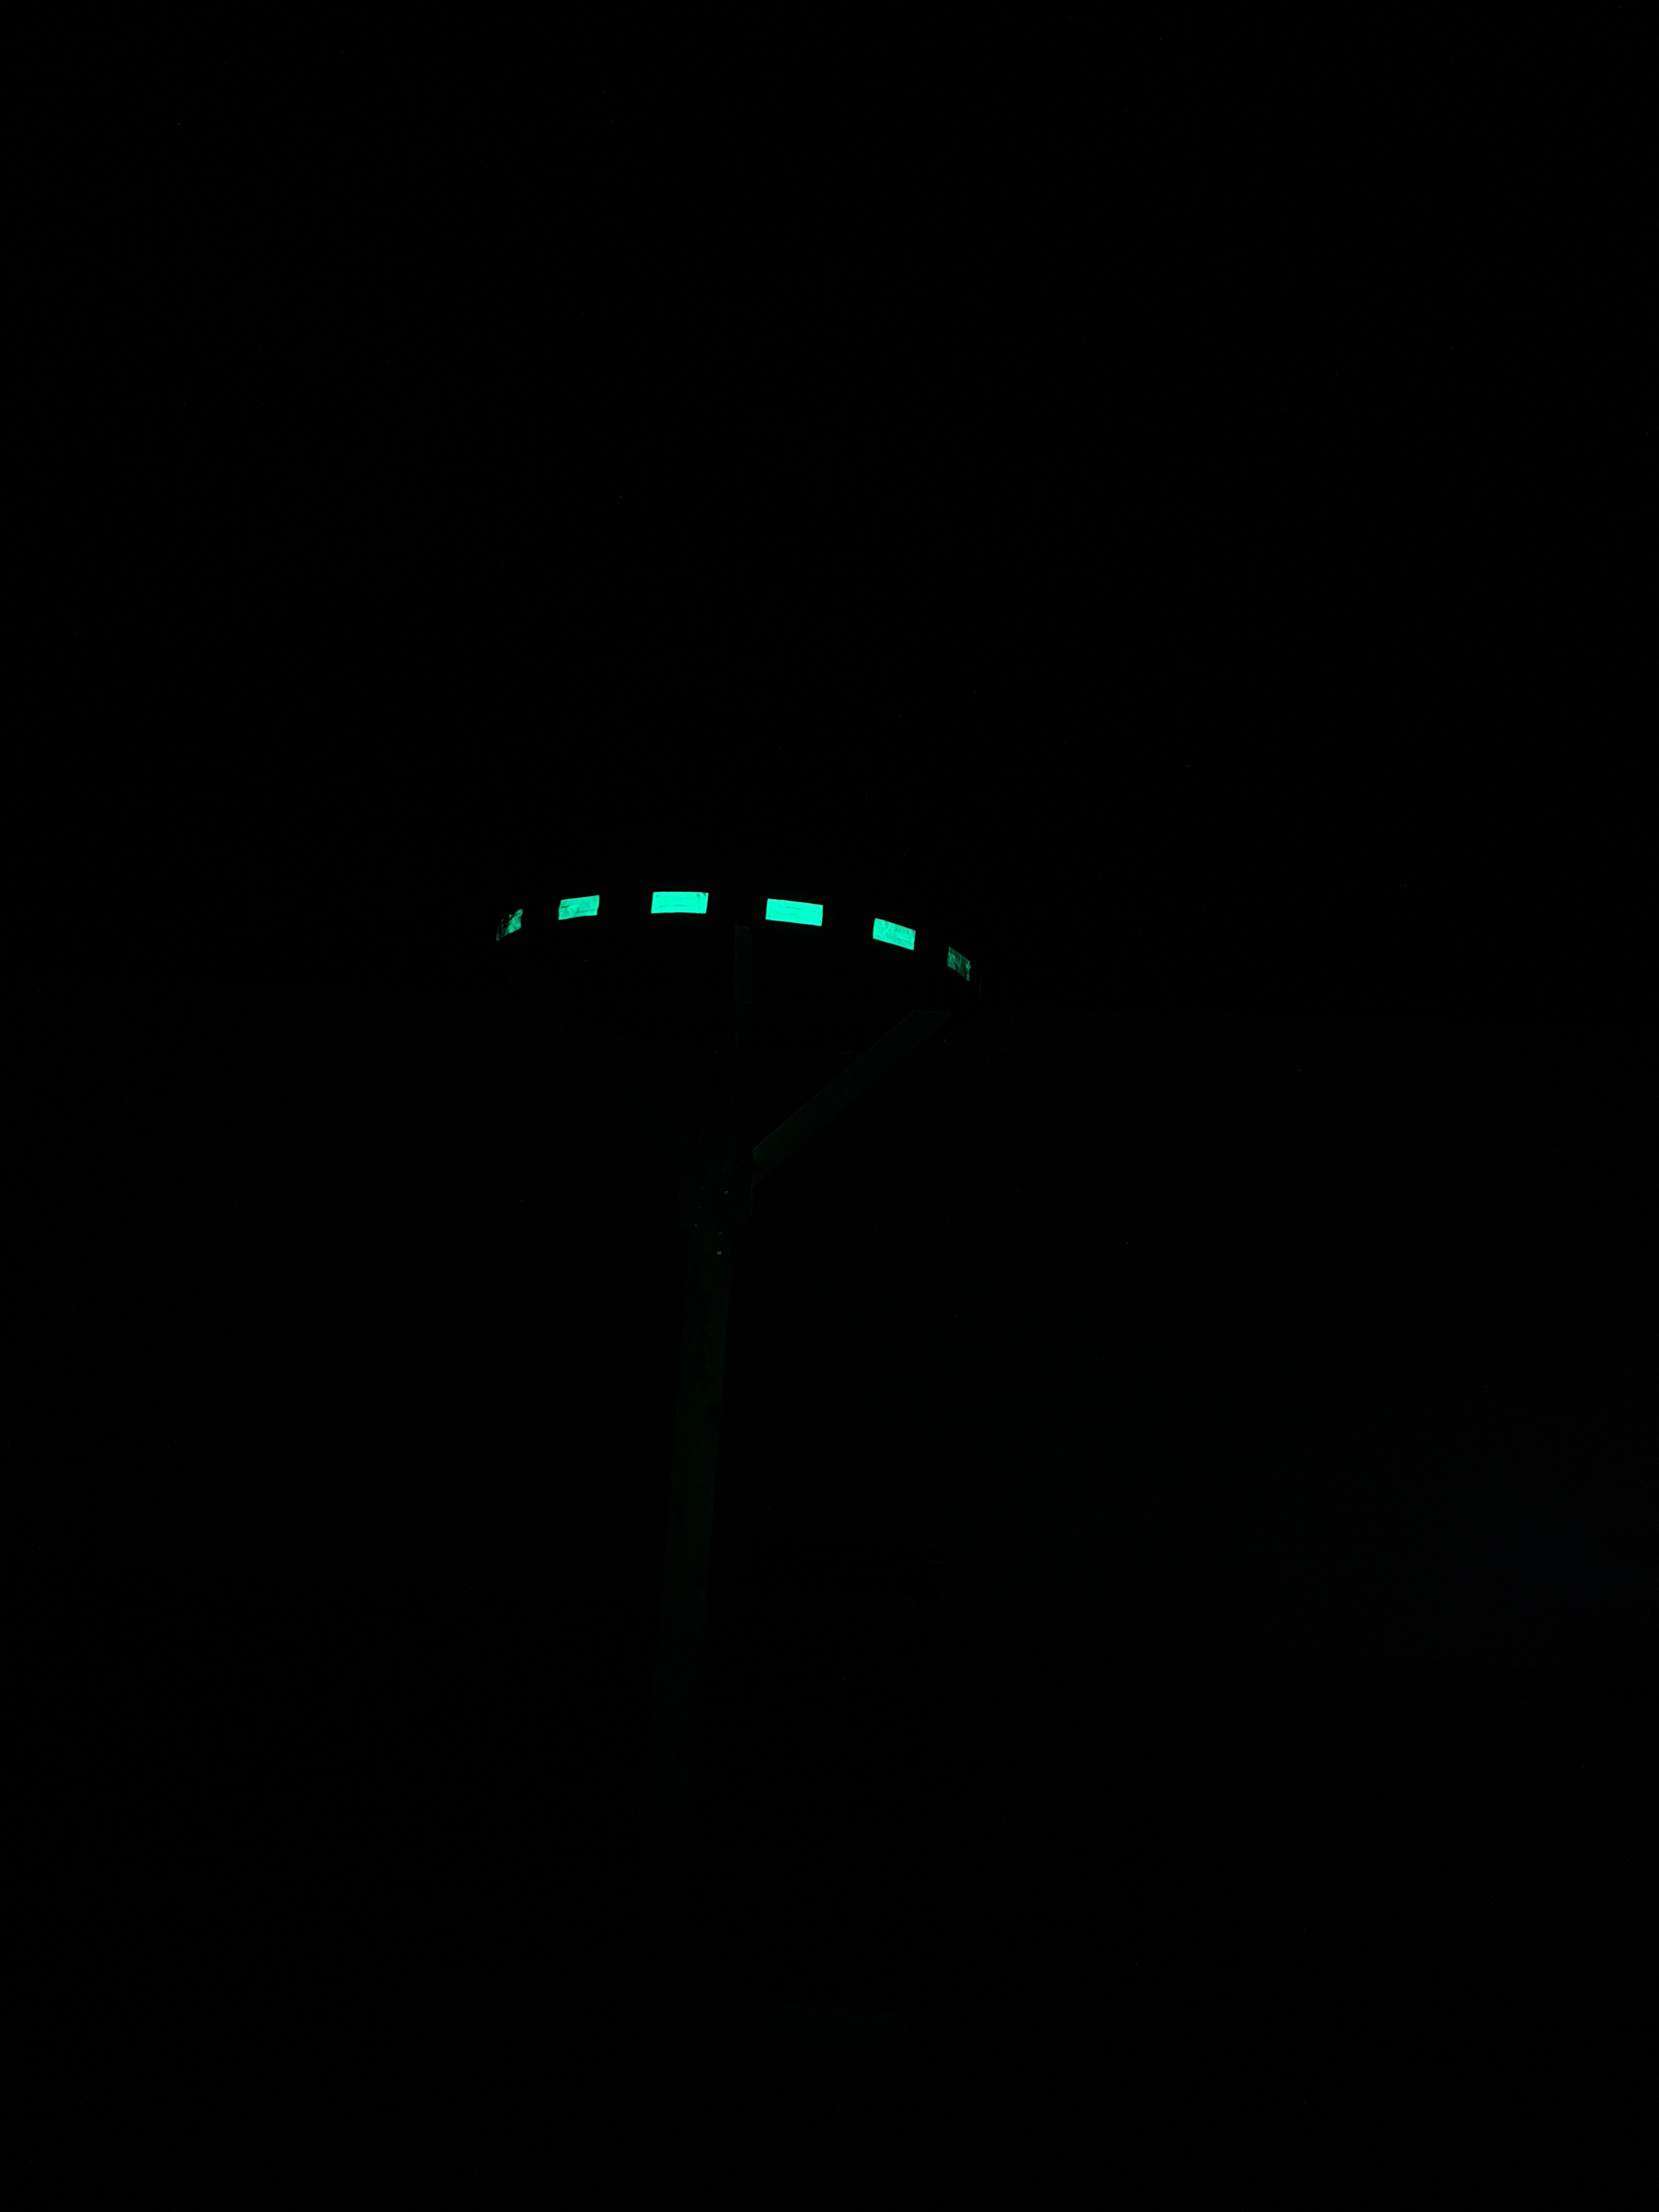hoop: (488, 880, 976, 996)
